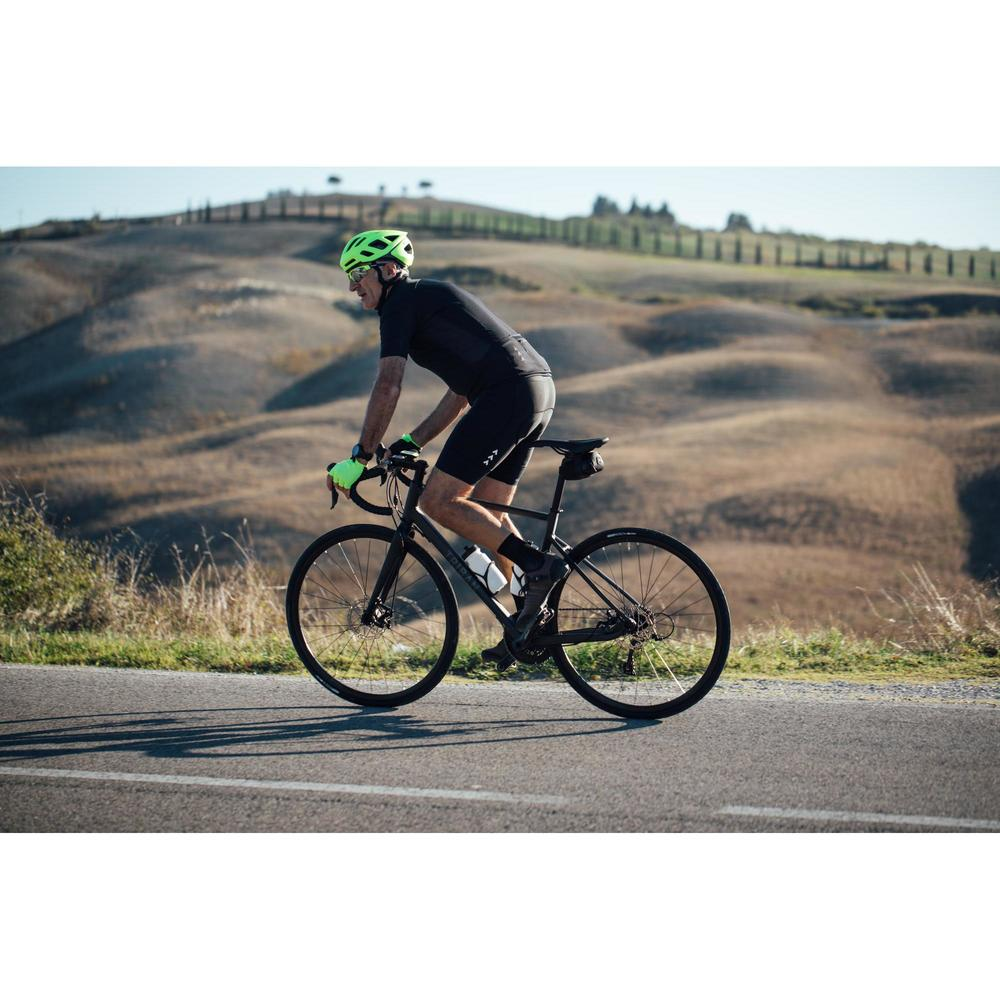RoadBike: (290, 424, 732, 715)
